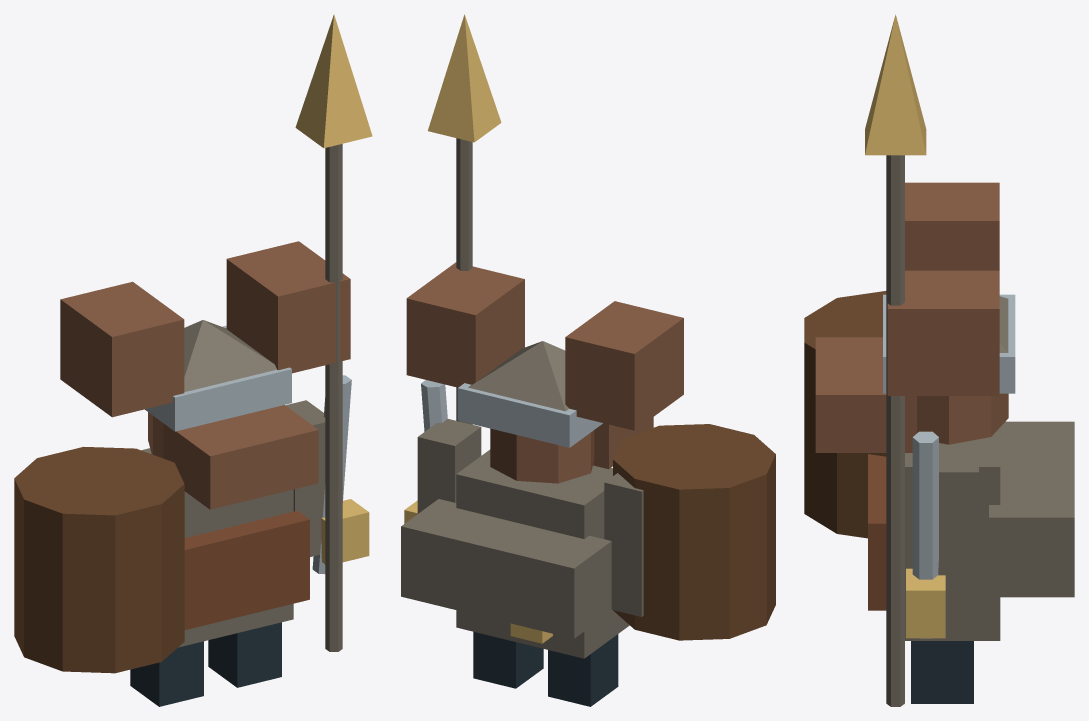
File: pikeman.obj
3 views of the same model, side by side, from view 1: azimuth 30°, elevation 25°; view 2: azimuth 150°, elevation 25°; view 3: azimuth 270°, elevation 25° (orthographic). The views are drawn at different scales.
Parts seen in each view (by area): view 1: infantry; view 2: infantry; view 3: infantry.
Part boxes in pixels (x1,y1,x2,y2): infantry: [14, 14, 372, 706]; infantry: [401, 14, 775, 706]; infantry: [804, 14, 1074, 706].
Bounding box in the file's own units: 1.66 × 2.95 × 1.01.
